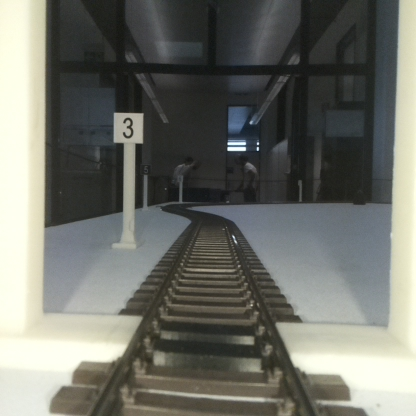white-info-3: (114, 113, 143, 246)
